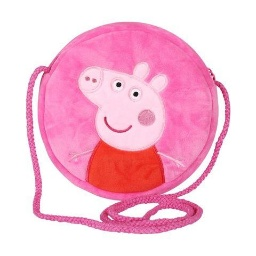Peppa: (75, 62, 172, 197)
